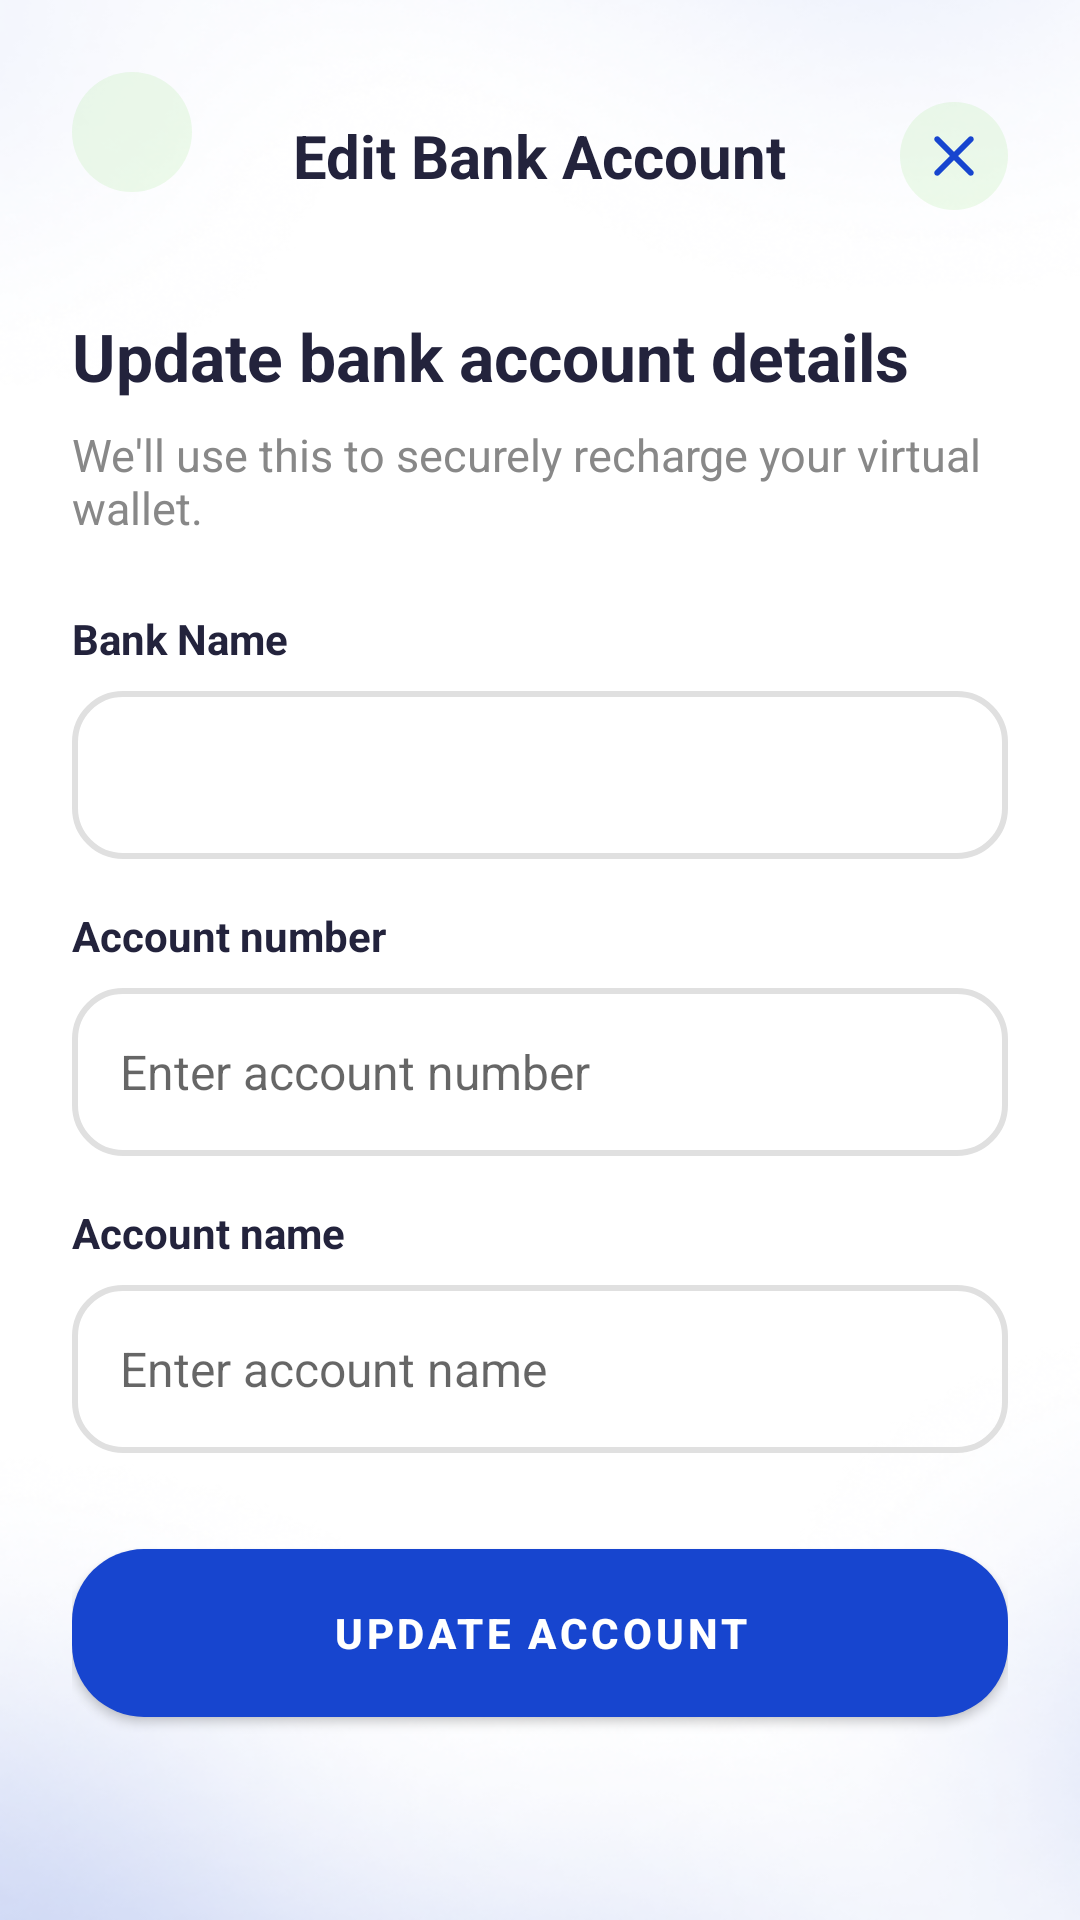

Named icons in this screenshot (1080 × 1920) and their bounding boxes, (x1, y1, x2, y2):
Close: (900, 102, 1008, 210)
